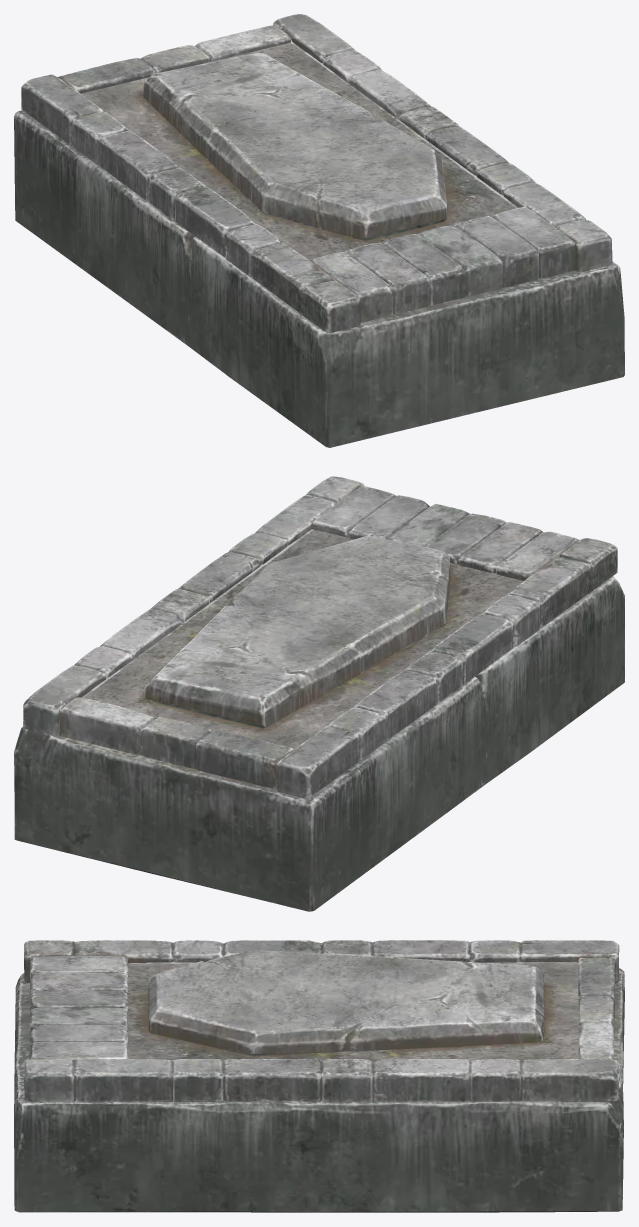
3 renders of one model, top to bottom at view 1: azimuth 30°, elevation 25°; view 2: azimuth 150°, elevation 25°; view 3: azimuth 270°, elevation 25°, orthographic. The views are drawn at different scales.
Parts seen in each view (by area): view 1: SM_Tombstone_Stone_Base_03_LOD0; view 2: SM_Tombstone_Stone_Base_03_LOD0; view 3: SM_Tombstone_Stone_Base_03_LOD0.
Boxes of the visible parts, x1,y1,x2,y2 form: SM_Tombstone_Stone_Base_03_LOD0: (14, 14, 624, 447); SM_Tombstone_Stone_Base_03_LOD0: (14, 476, 624, 911); SM_Tombstone_Stone_Base_03_LOD0: (14, 940, 624, 1212).
Size of the model in its own units: 2.02 by 1.04 by 3.67.
2 materials, 2 textured.
